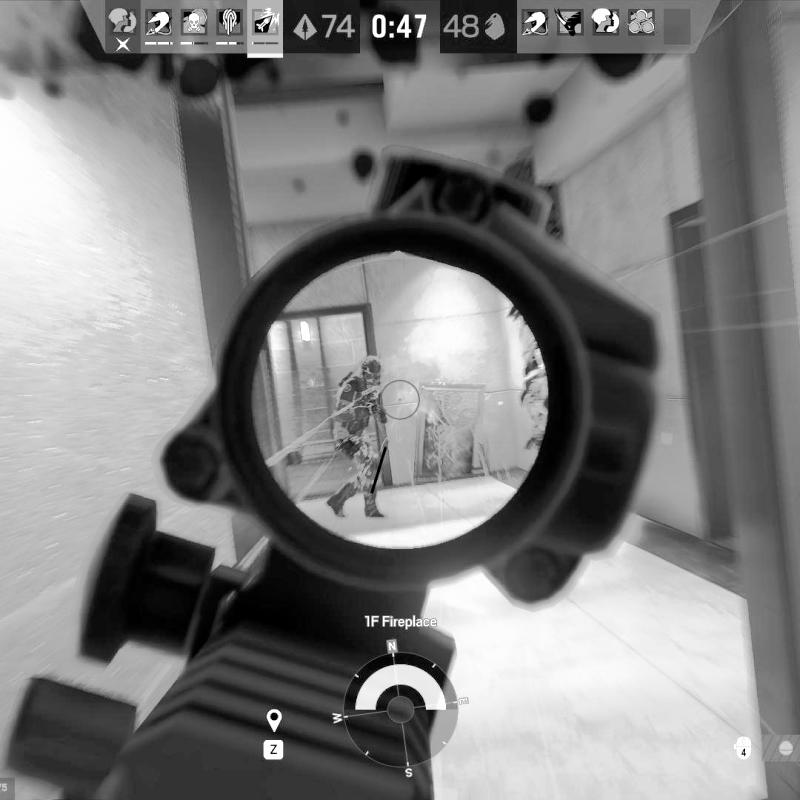Character: (321, 352, 395, 527)
Head: (361, 355, 384, 382)
